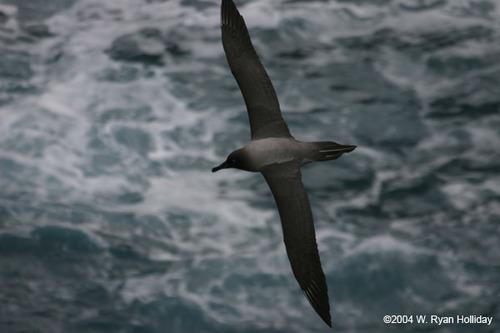003.Sooty_Albatross: (211, 2, 358, 328)
